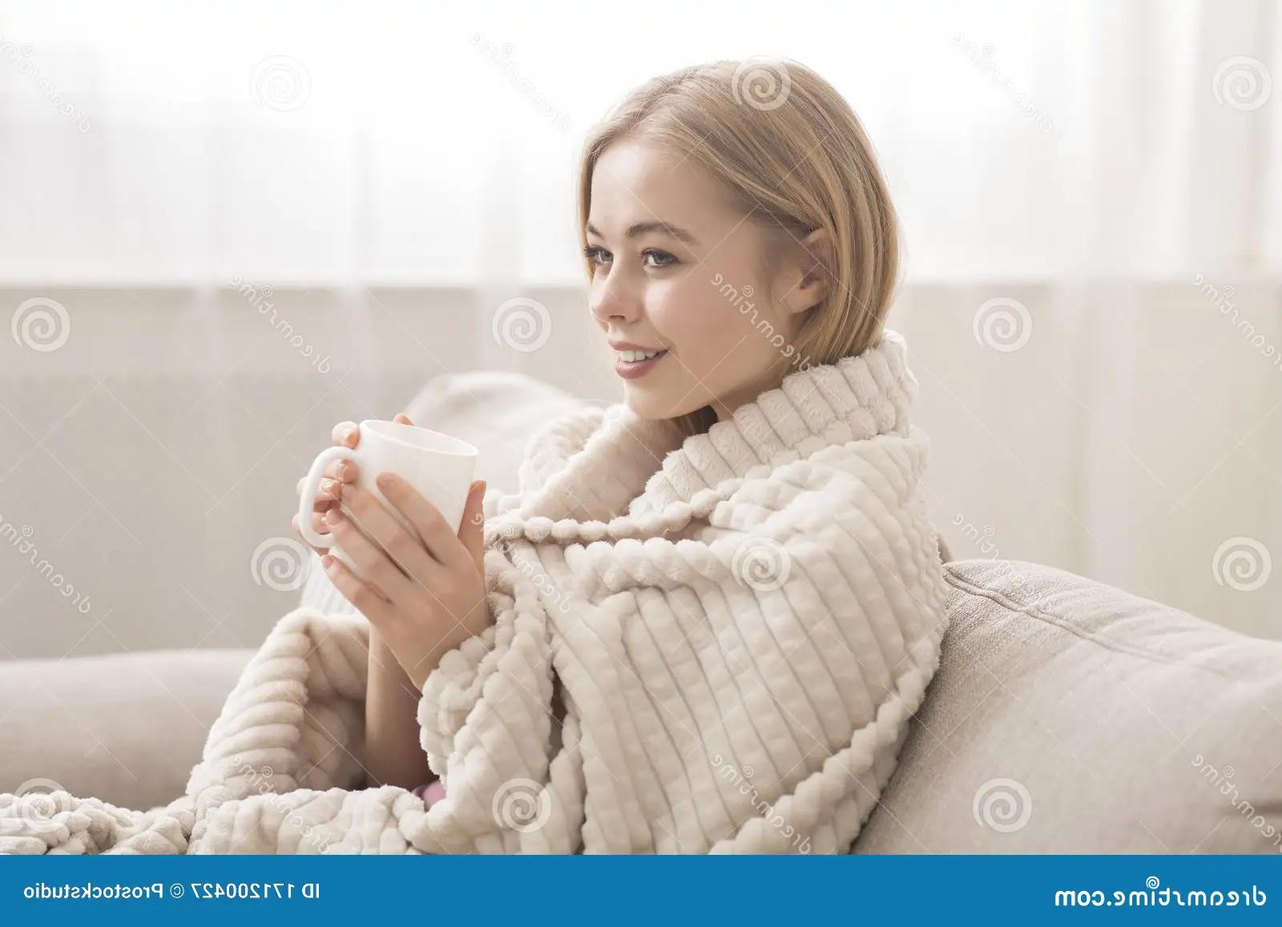blanket: (0, 328, 953, 855)
